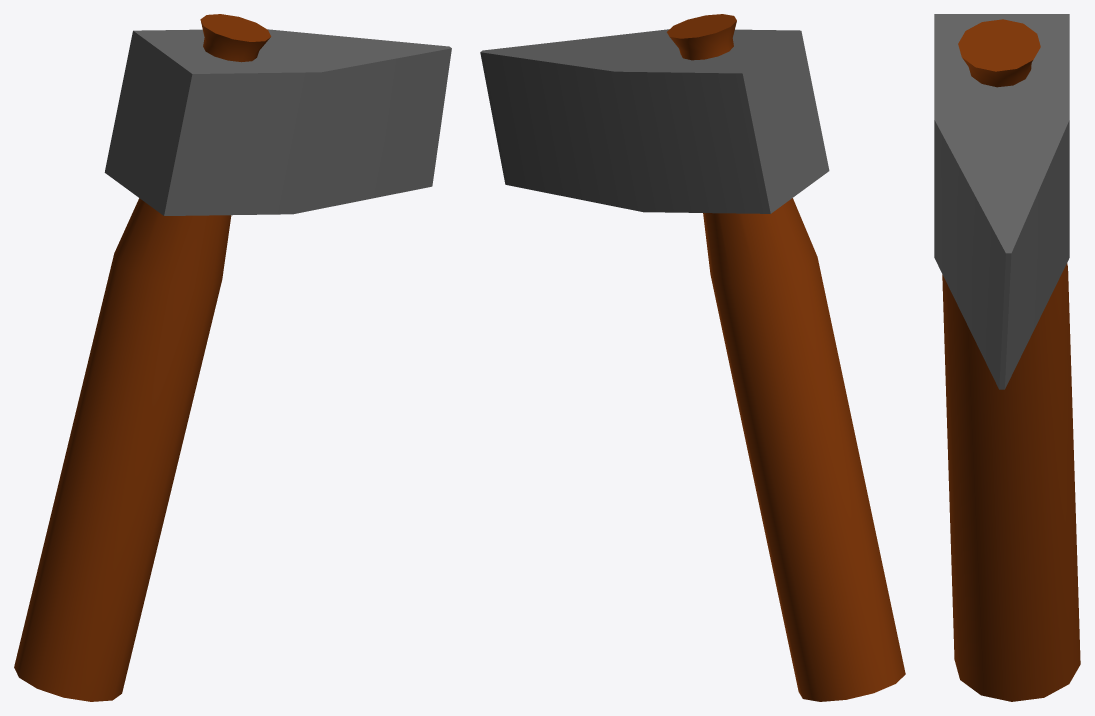
The model's file is Axe.fbx.
3 views of the same model, side by side, from view 1: azimuth 30°, elevation 25°; view 2: azimuth 150°, elevation 25°; view 3: azimuth 270°, elevation 25° (orthographic). The views are drawn at different scales.
Visible parts, largest first — view 1: axe; view 2: axe; view 3: axe.
Boxes of the visible parts, <box> form: axe: <box>14,14,451,701</box>; axe: <box>480,14,905,701</box>; axe: <box>934,14,1080,701</box>.
Bounding box in the file's own units: 0.3156 × 0.4536 × 0.0825.
